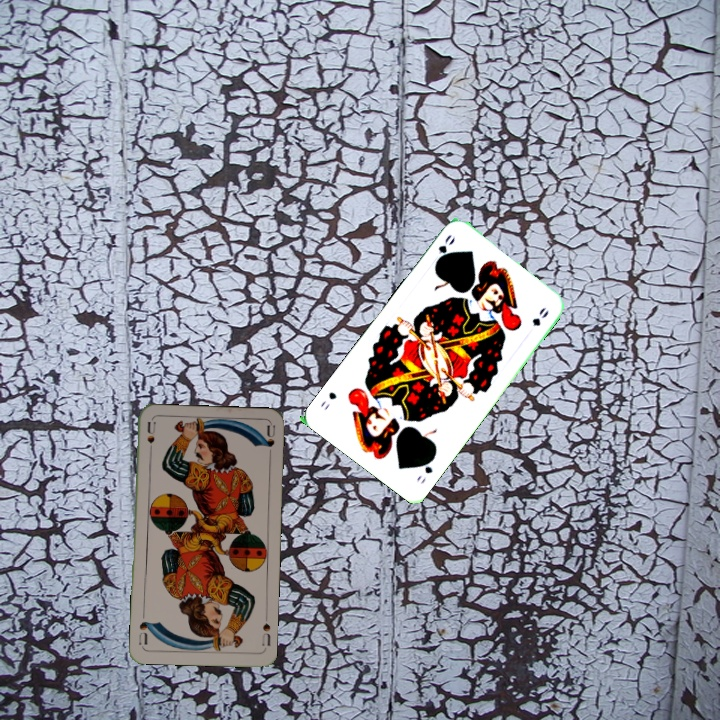GO: (429, 230, 458, 266), (412, 451, 438, 486)
SU: (143, 418, 158, 459), (258, 619, 273, 648)
